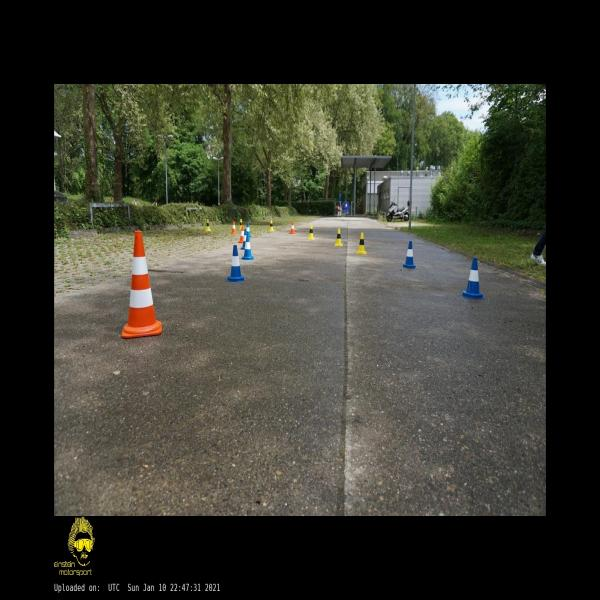blue_cone: (461, 258, 483, 299), (225, 245, 245, 282), (403, 241, 416, 268), (241, 234, 254, 260), (241, 229, 247, 250), (246, 223, 251, 238)
large_orange_cone: (122, 231, 162, 338)
orange_cone: (238, 227, 244, 243), (290, 221, 295, 234), (231, 221, 236, 233)
yellow_cone: (357, 233, 366, 254), (335, 228, 342, 246), (308, 224, 314, 240), (205, 218, 211, 232), (270, 220, 274, 231), (240, 219, 242, 229)
